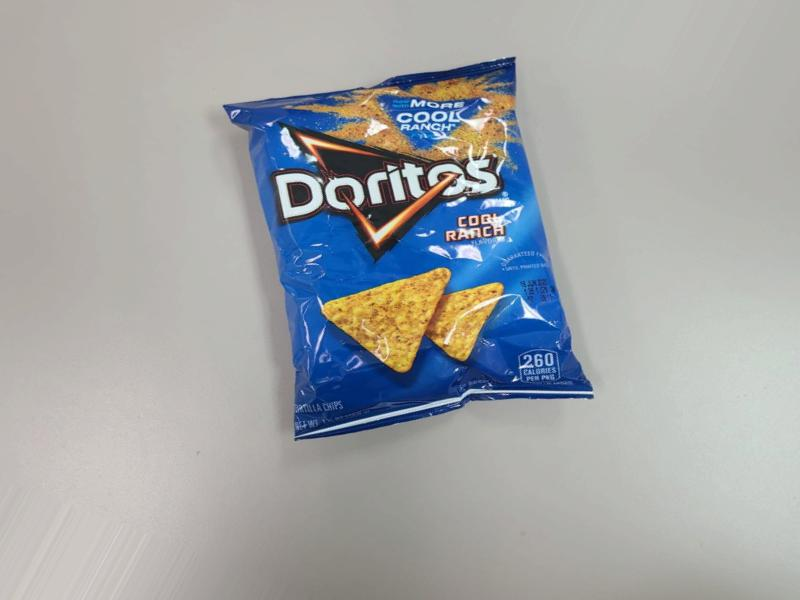doritos: (221, 46, 616, 465)
